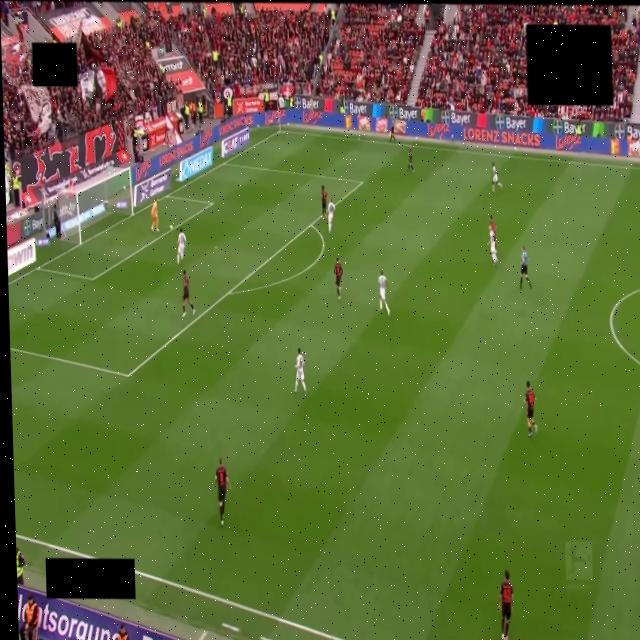ball: (170, 225, 173, 229)
player: (215, 459, 230, 526), (499, 571, 513, 639), (524, 381, 537, 437), (182, 270, 195, 317), (294, 348, 306, 394), (378, 272, 389, 315), (489, 228, 498, 266), (334, 258, 342, 299), (177, 228, 186, 264), (151, 199, 159, 232), (492, 164, 501, 192), (328, 201, 335, 233), (322, 186, 327, 219), (408, 147, 414, 171), (490, 217, 496, 235)
referee: (520, 247, 531, 289)
